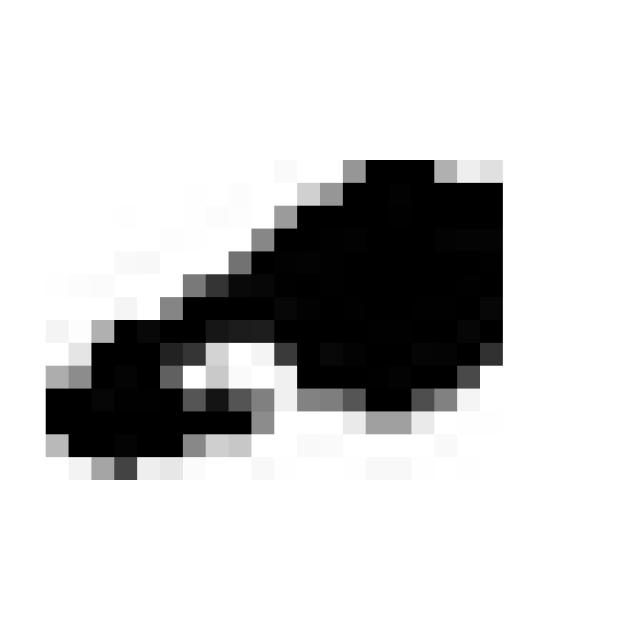0 -zero-: (28, 135, 520, 508)
